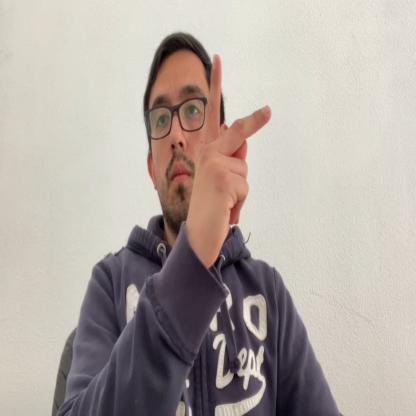P: (188, 53, 272, 265)
